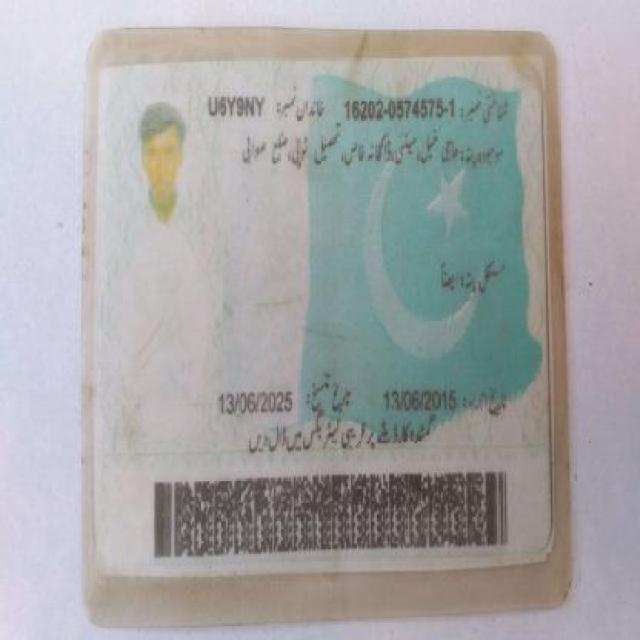Back: (85, 54, 560, 580)
